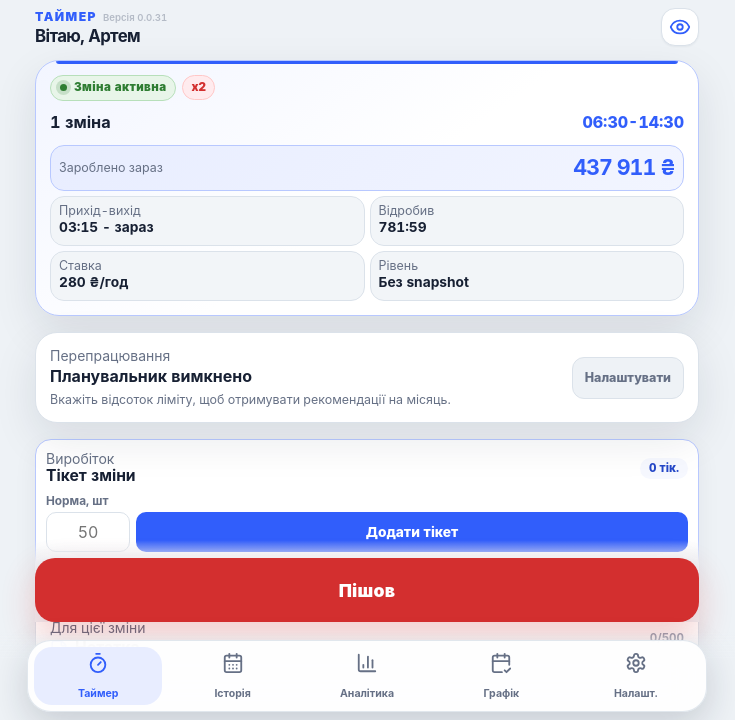
Test: MainPage active shift › offers a direct copy button when both automatic iPhone attempts fail
Press the mouse on the button with aria-label "Пішов. Утримуйте 1.5 с" at point(367, 590), box [35, 558, 699, 622]
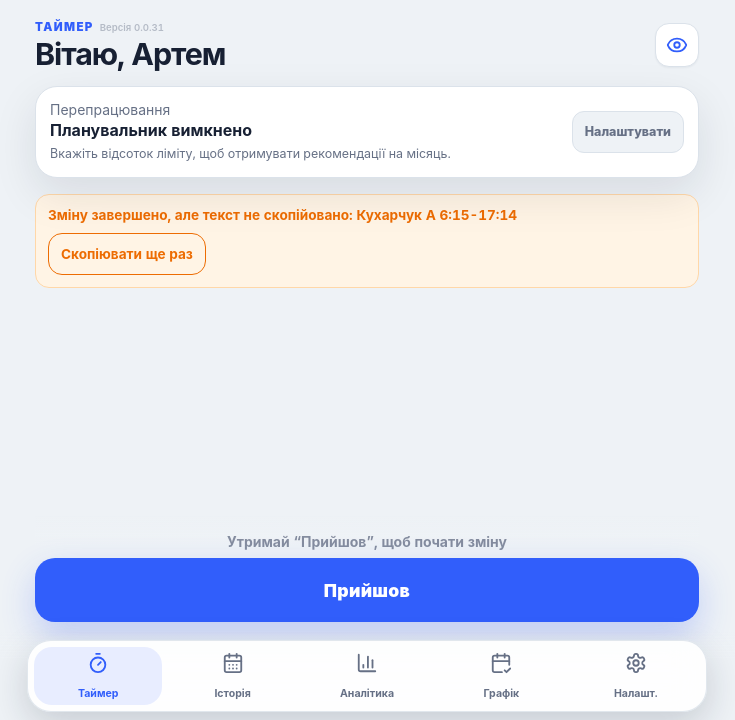
Click the button "Скопіювати ще раз" at point(127, 254), box [48, 233, 206, 275]
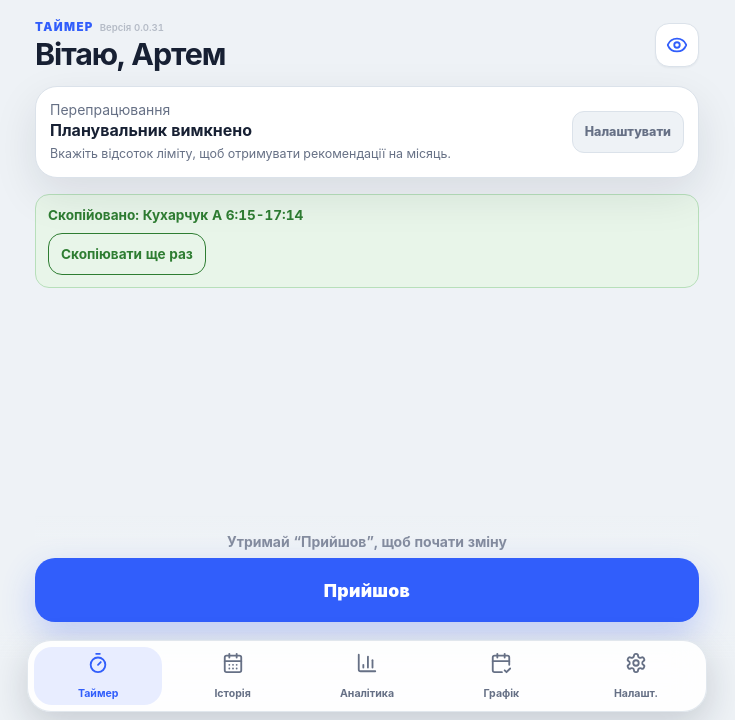
Check: the text "Скопійовано: Кухарчук А 6:15-17:14" is shown, box [48, 207, 303, 223]
